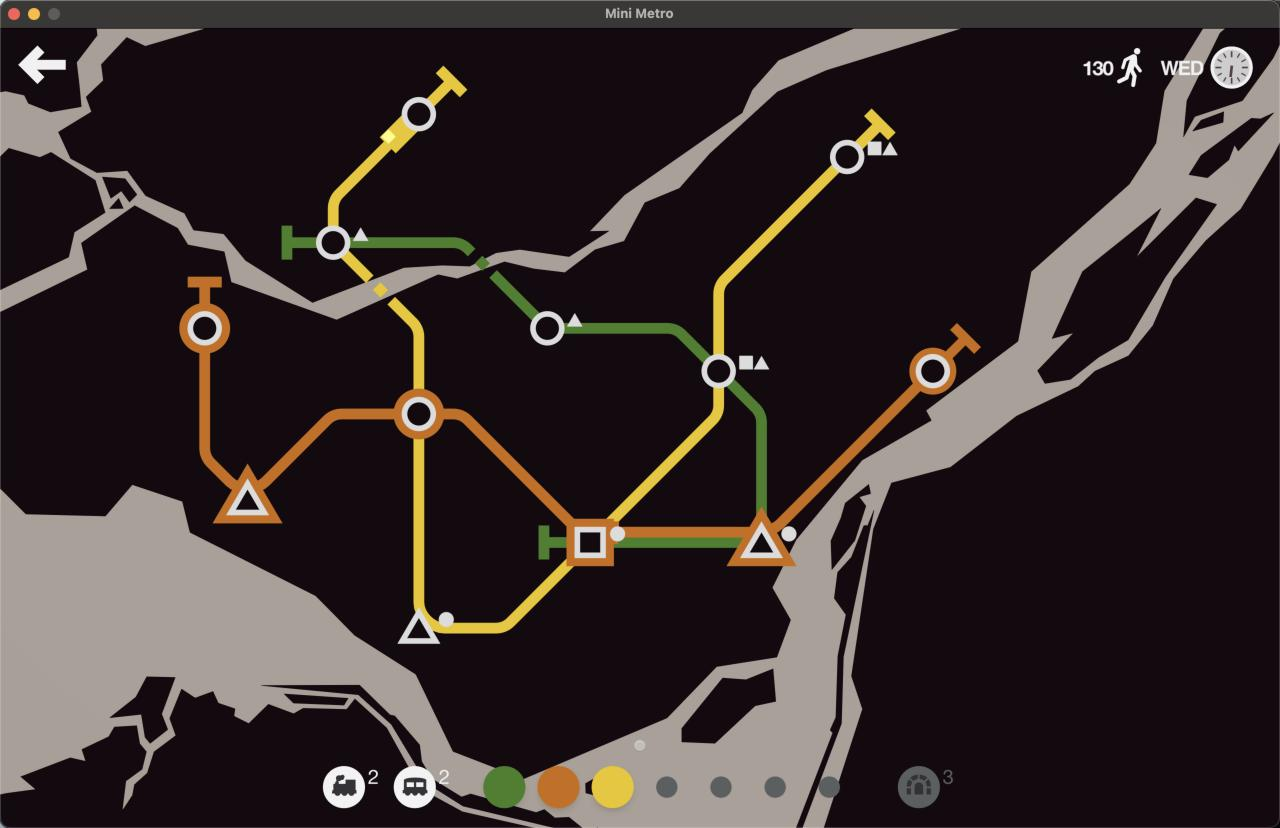CIRCLE: (912, 350, 955, 392), (185, 309, 225, 347), (400, 395, 437, 432), (829, 138, 865, 175), (529, 310, 566, 346), (315, 224, 352, 260), (700, 353, 737, 389), (401, 95, 437, 131)
SQUARE: (574, 525, 607, 560)
TRIANGLE: (727, 505, 797, 570), (214, 467, 279, 524), (397, 607, 442, 645)
